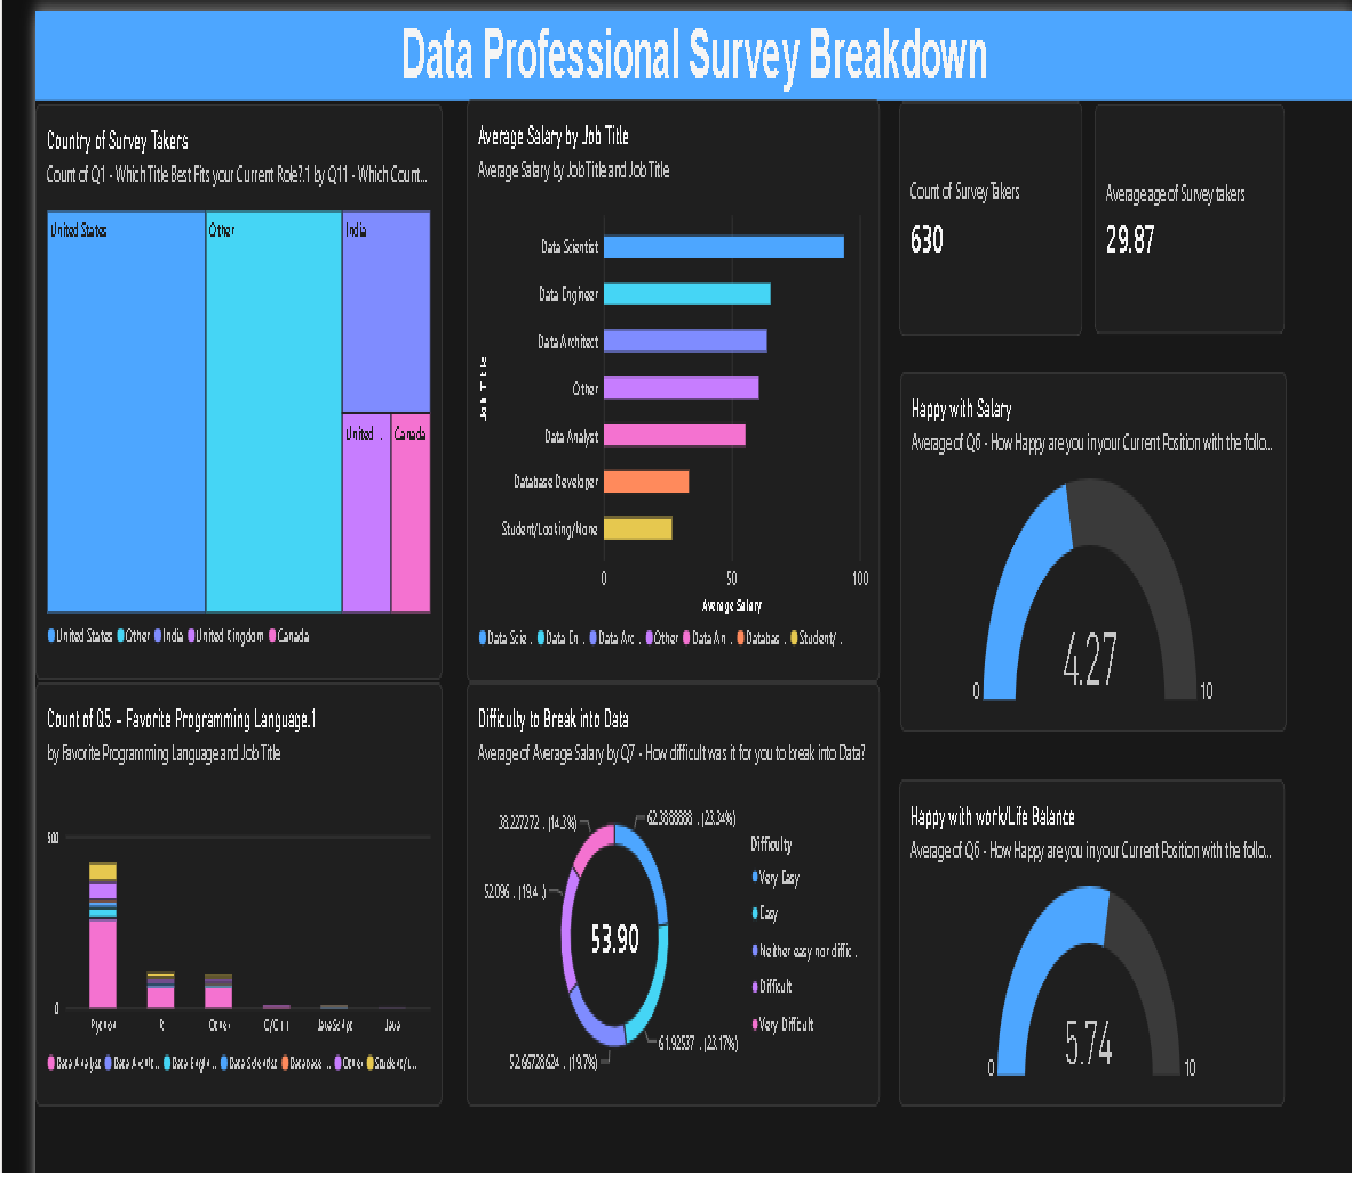

What the dashboard file says about the page in this screenshot:
{"tool":"powerbi","page":{"name":"Page 1","canvas":[1920,1080],"ordinal":0},"visuals":[{"type":"textbox","box":[0,0,1920,62.5],"z":0},{"type":"cardVisual","fields":{"Data":["CountNonNull(Data Professional Survey.Unique ID)"]},"box":[1257.5,62.5,267.5,165],"z":1000},{"type":"cardVisual","fields":{"Data":["Avg(Data Professional Survey.Q10 - Current Age)"]},"box":[1542.5,65,277.5,162.5],"z":2000},{"type":"barChart","title":"Average Salary by Job Title","fields":{"Category":["Data Professional Survey.Q1 - Which Title Best Fits your Current Role?.1"],"Series":["Data Professional Survey.Q1 - Which Title Best Fits your Current Role?.1"],"Y":["Avg(Data Professional Survey.Average Salary)"]},"box":[628,62,602,410],"z":3000},{"type":"filledMap","fields":{"Category":["Data Professional Survey.Q11 - Which Country do you live in?.1"]},"box":[0,1247.5,458,314],"z":4000},{"type":"treemap","title":"Country of Survey Takers","fields":{"Group":["Data Professional Survey.Q11 - Which Country do you live in?.1"],"Values":["CountNonNull(Data Professional Survey.Q1 - Which Title Best Fits your Current Role?.1)"]},"box":[0,65,592.5,405],"z":5000},{"type":"gauge","title":"Happy with work/Life Balance","fields":{"MaxValue":["Max(Data Professional Survey.Q6 - How Happy are you in your Current Position with the following? (Work/Life Balance))"],"MinValue":["Min(Data Professional Survey.Q6 - How Happy are you in your Current Position with the following? (Work/Life Balance))"],"Y":["Avg(Data Professional Survey.Q6 - How Happy are you in your Current Position with the following? (Work/Life Balance))"]},"box":[1258,540,562,230],"z":5001},{"type":"gauge","title":"Happy with Salary","fields":{"MaxValue":["Max(Data Professional Survey.Q6 - How Happy are you in your Current Position with the following? (Salary))2"],"MinValue":["Min(Data Professional Survey.Q6 - How Happy are you in your Current Position with the following? (Salary))1"],"Y":["Avg(Data Professional Survey.Q6 - How Happy are you in your Current Position with the following? (Salary))"]},"box":[1260,254,562.5,252.5],"z":5002},{"type":"donutChart","title":"Difficulty to Break into Data","fields":{"Category":["Data Professional Survey.Q7 - How difficult was it for you to break into Data?"],"Y":["Avg(Data Professional Survey.Average Salary)"]},"box":[628,472,602,298],"z":5003},{"type":"columnChart","fields":{"Category":["Data Professional Survey.Q5 - Favorite Programming Language.1"],"Series":["Data Professional Survey.Q1 - Which Title Best Fits your Current Role?.1"],"Y":["CountNonNull(Data Professional Survey.Q5 - Favorite Programming Language.1)"]},"box":[0,472,593,298],"z":5004}]}

Visuals, with their boxes on the page's 1920x1080 design canvas (x1, y1, x2, y2). These are canvas units, not pixel positions in the 1353x1177 screenshot, which may show the page scaled, cropped or inside an application window:
textbox: locate(0, 0, 1920, 62)
cardVisual - CountNonNull(Data Professional Survey.Unique ID): locate(1258, 62, 1525, 228)
cardVisual - Avg(Data Professional Survey.Q10 - Current Age): locate(1542, 65, 1820, 228)
"Average Salary by Job Title" barChart: locate(628, 62, 1230, 472)
filledMap - Data Professional Survey.Q11 - Which Country do you live in?.1: locate(0, 1248, 458, 1562)
"Country of Survey Takers" treemap: locate(0, 65, 592, 470)
"Happy with work/Life Balance" gauge: locate(1258, 540, 1820, 770)
"Happy with Salary" gauge: locate(1260, 254, 1822, 506)
"Difficulty to Break into Data" donutChart: locate(628, 472, 1230, 770)
columnChart - Data Professional Survey.Q5 - Favorite Programming Language.1 x Data Professional Survey.Q1 - Which Title Best Fits your Current Role?.1: locate(0, 472, 593, 770)
